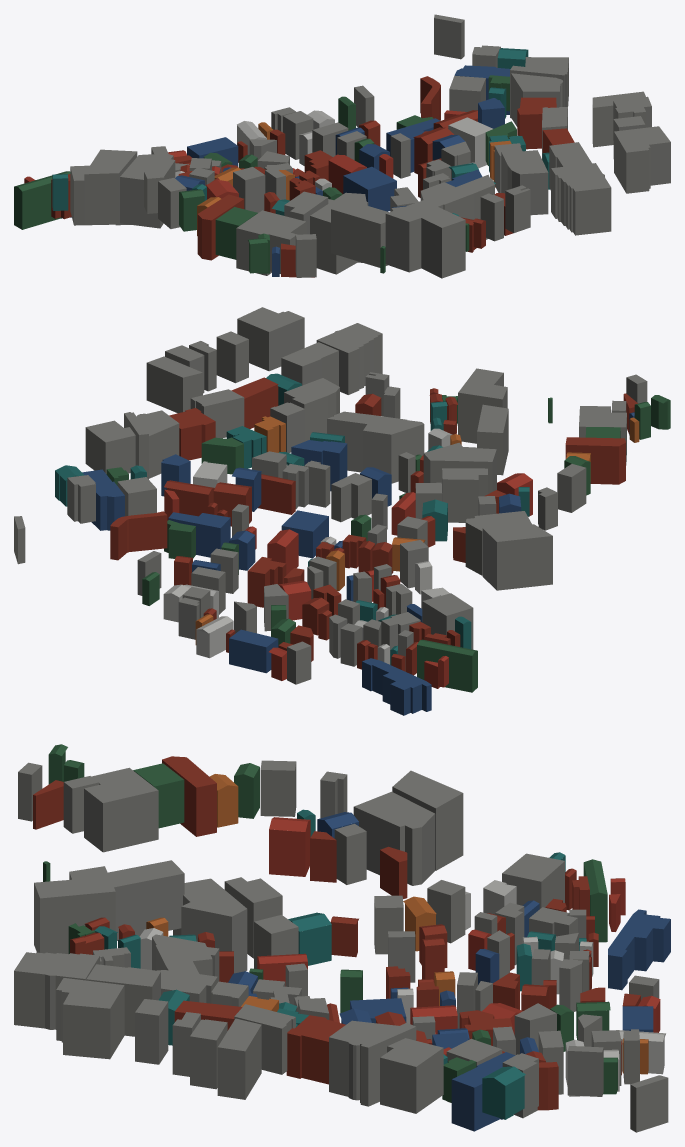
Rendered from near-17-109443-59474.774d7904.glb.
The picture shows the model from 3 angles, top to bottom: view 1: azimuth 30°, elevation 25°; view 2: azimuth 150°, elevation 25°; view 3: azimuth 270°, elevation 25°; orthographic projection. The views are drawn at different scales.
Bounding box in the file's own units: 329 × 101 × 309.
